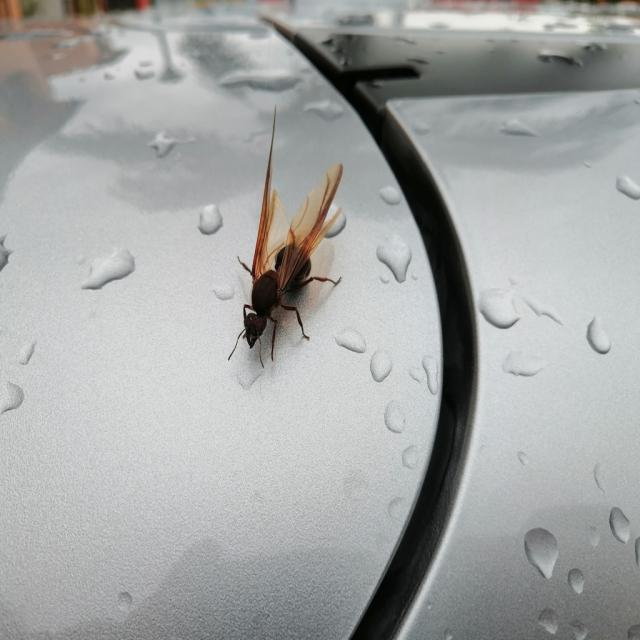Alive-Female-Alate: (228, 104, 344, 368)
